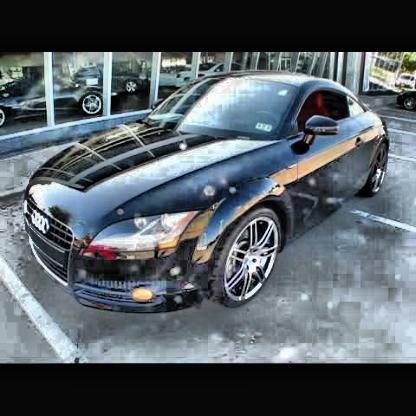Audi TTS Coupe 2012: (22, 67, 394, 316)
